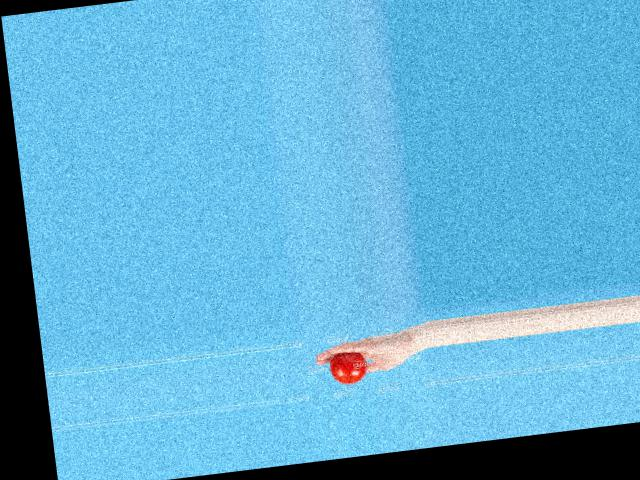tomato: (328, 350, 368, 385)
